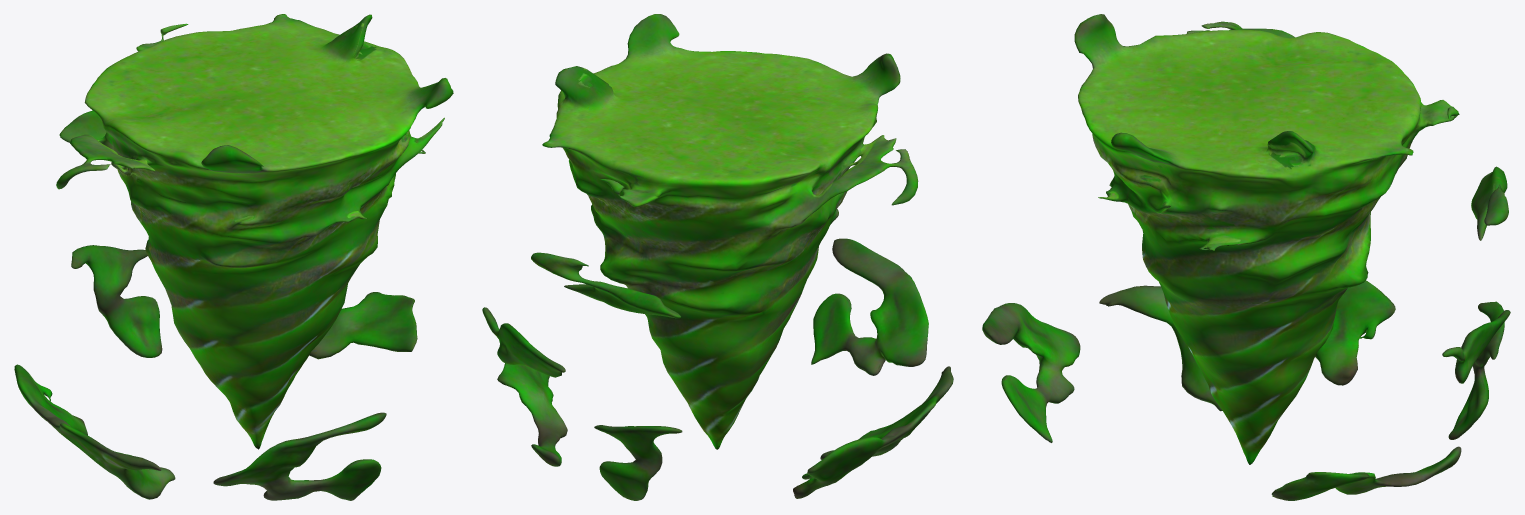
Rendered from c039dc238256_4e3b579f7925_cone_shaped_tornado.glb.
3 views of the same model, side by side, from view 1: azimuth 30°, elevation 25°; view 2: azimuth 150°, elevation 25°; view 3: azimuth 270°, elevation 25° (orthographic). The views are drawn at different scales.
Visible parts, largest first — view 1: mesh; view 2: mesh; view 3: mesh.
Boxes of the visible parts, box(x1,y1,x2,y2) form: mesh: box(14, 14, 453, 500); mesh: box(482, 14, 953, 500); mesh: box(982, 14, 1510, 500).
Size of the model in its own units: 0.8913 by 0.8271 by 0.9943.
1 material, 1 textured.
